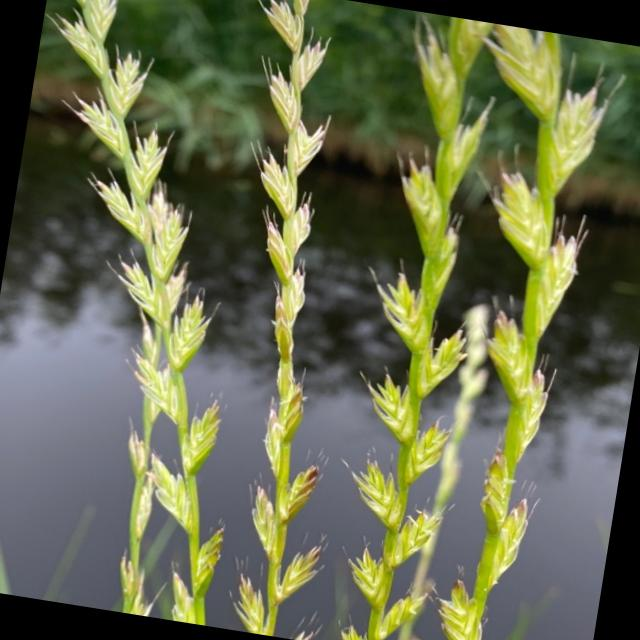Lolium: (0, 0, 307, 623), (166, 0, 397, 640), (397, 24, 625, 640), (308, 10, 520, 640)
